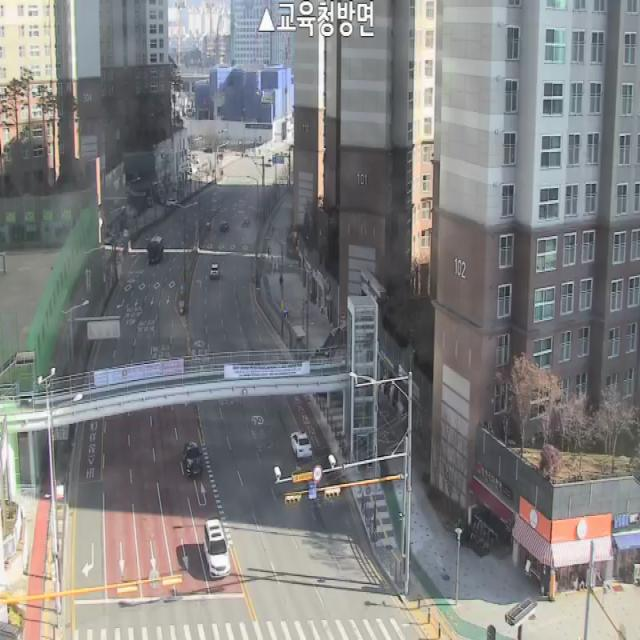Bus: (146, 234, 164, 263)
Car: (204, 518, 230, 578), (184, 442, 203, 476), (291, 430, 312, 458), (210, 263, 220, 280), (220, 222, 229, 232), (241, 217, 250, 227)
